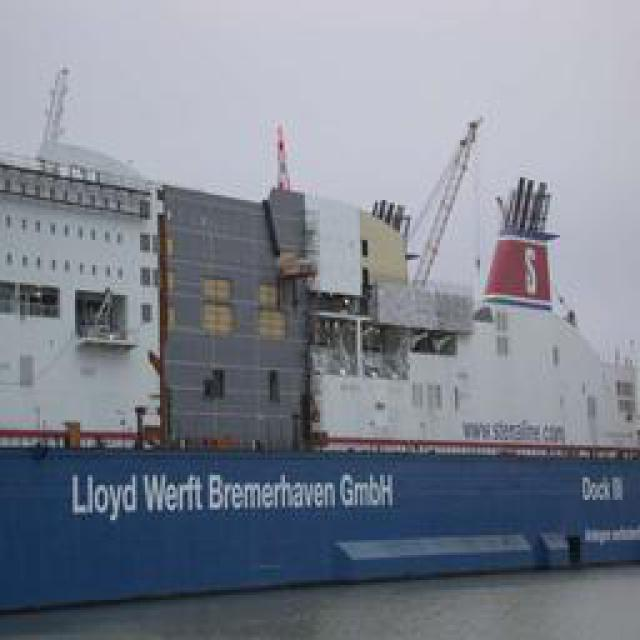Ship: (1, 84, 640, 603)
